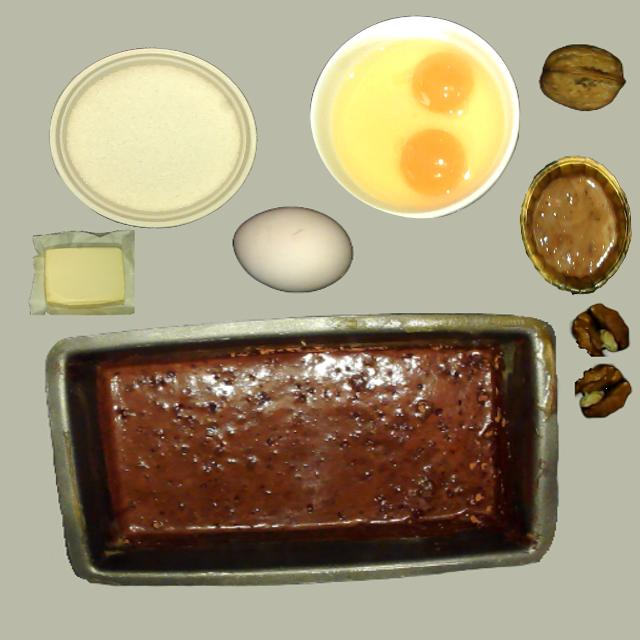Egg: (400, 130, 466, 194), (412, 52, 474, 114)
Sugar: (50, 48, 251, 229)
Walnut: (539, 44, 625, 111)
